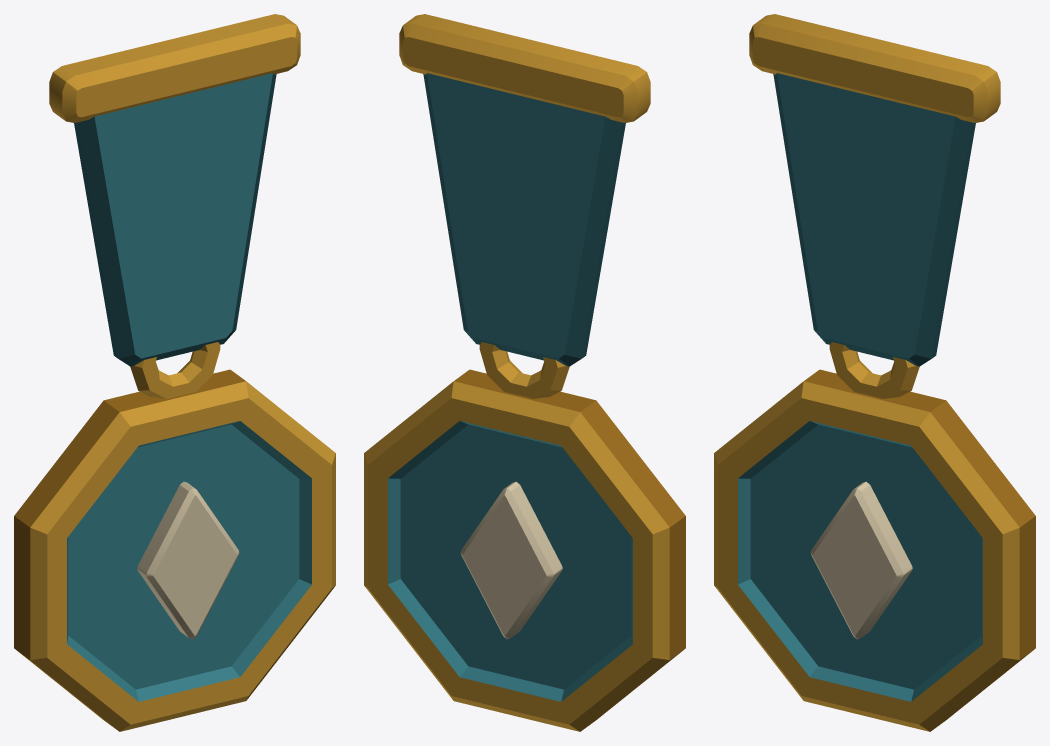
The model's file is Medal_02.glb.
The picture shows the model from 3 angles, left to right: view 1: azimuth 30°, elevation 25°; view 2: azimuth 150°, elevation 25°; view 3: azimuth 330°, elevation 25°; orthographic projection.
Parts seen in each view (by area): view 1: Medal_02; view 2: Medal_02; view 3: Medal_02.
Boxes of the visible parts, box(x1,y1,x2,y2) form: Medal_02: box(14, 14, 335, 731); Medal_02: box(364, 14, 685, 731); Medal_02: box(714, 14, 1035, 731).
Size of the model in its own units: 1.21 by 2.52 by 0.28.
